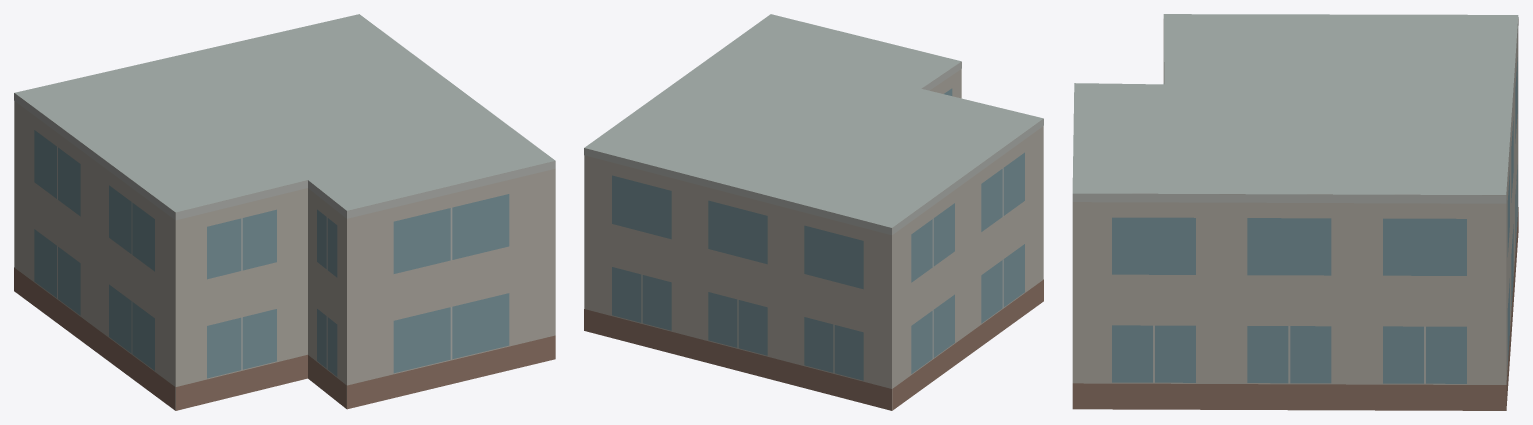
File: survey-upis-32796887.glb
3 views of the same model, side by side, from view 1: azimuth 30°, elevation 25°; view 2: azimuth 150°, elevation 25°; view 3: azimuth 270°, elevation 25° (orthographic). The views are drawn at different scales.
Parts seen in each view (by area): view 1: survey-upis-32796887.tmp; view 2: survey-upis-32796887.tmp; view 3: survey-upis-32796887.tmp.
Boxes of the visible parts, x1,y1,x2,y2 form: survey-upis-32796887.tmp: (14,14,555,410); survey-upis-32796887.tmp: (584,14,1043,410); survey-upis-32796887.tmp: (1072,14,1518,410).
Size of the model in its own units: 10.99 by 6.1 by 11.44.
